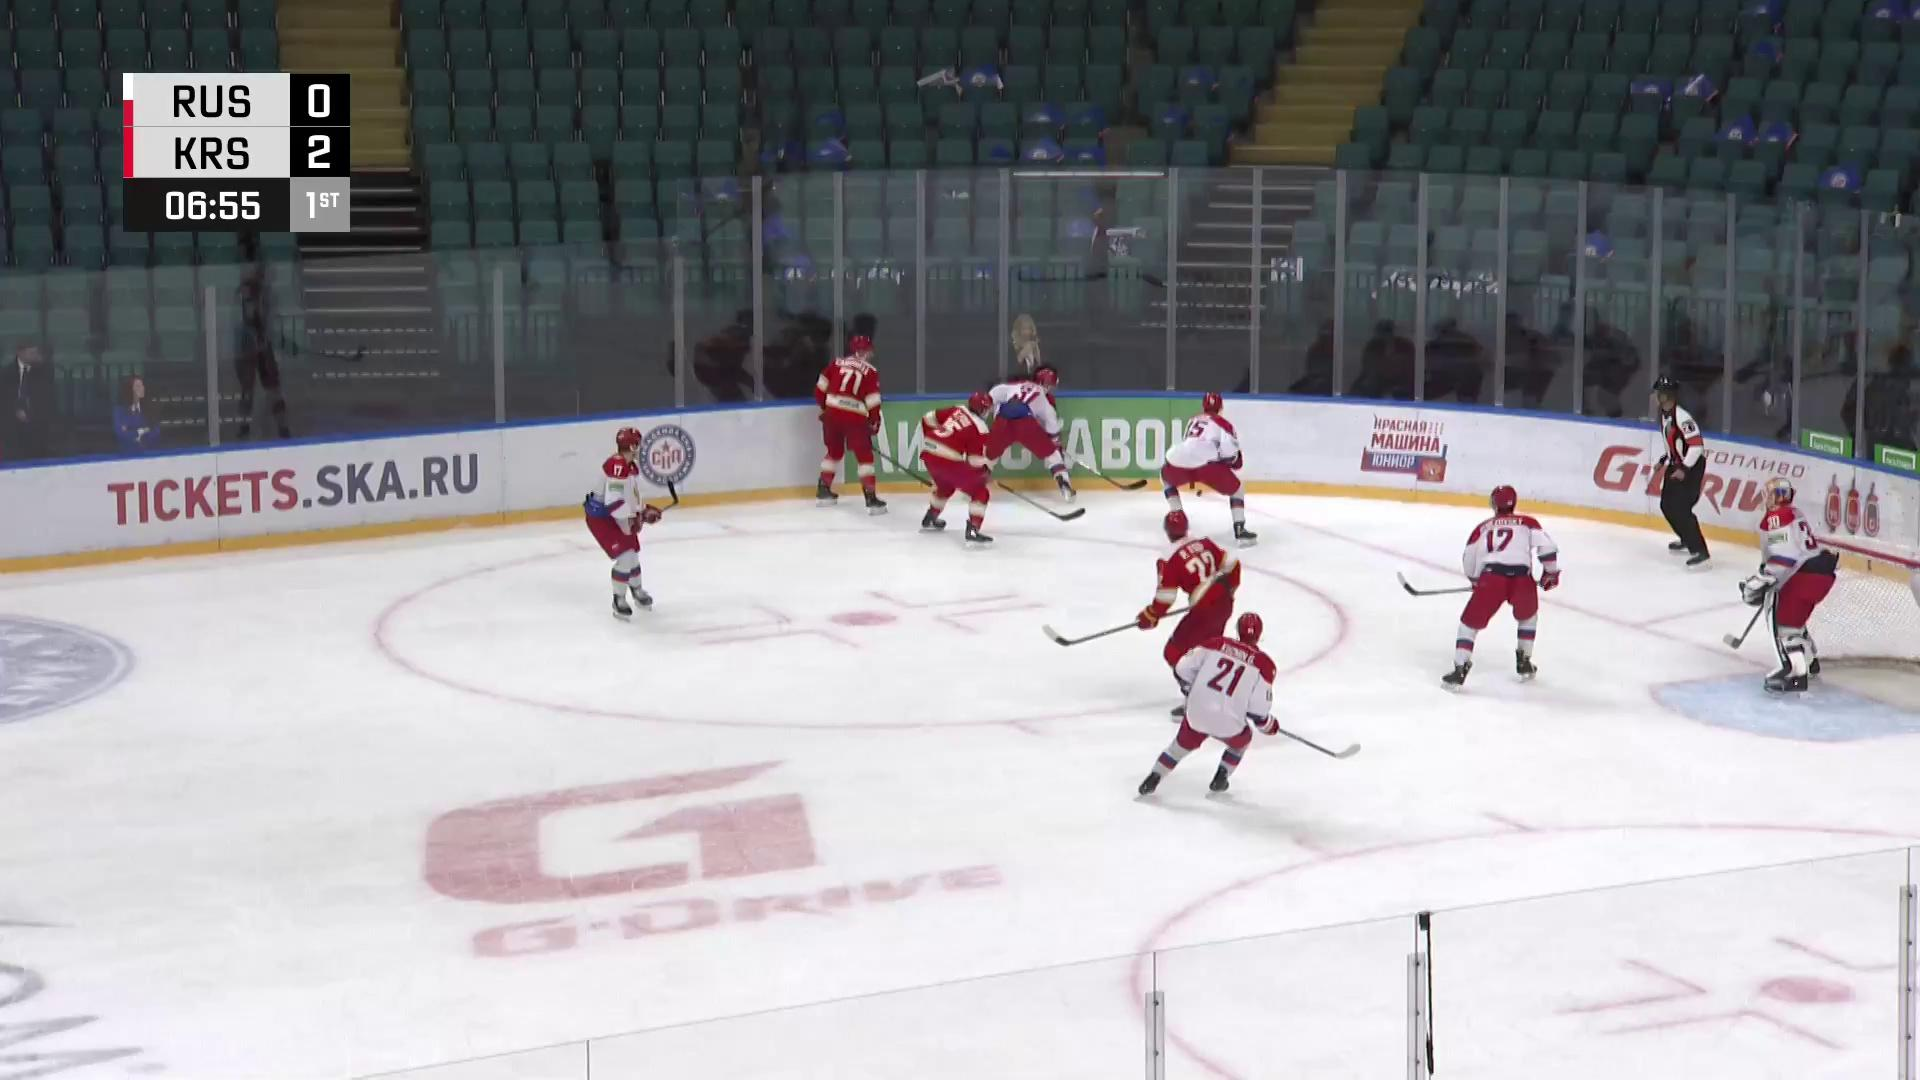ball: (1195, 489, 1204, 497)
